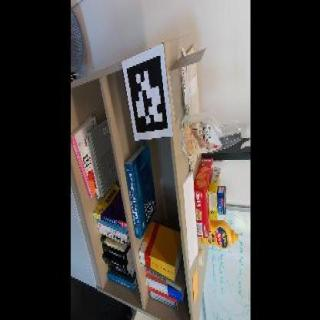book-spine: (69, 136, 92, 199), (133, 251, 179, 282), (123, 162, 141, 239), (138, 264, 183, 292), (85, 132, 103, 198), (142, 277, 186, 303), (83, 139, 98, 198), (103, 272, 136, 291), (91, 213, 129, 229), (96, 227, 129, 245), (95, 222, 128, 240), (146, 286, 177, 303), (146, 290, 176, 307), (99, 245, 129, 262), (95, 219, 128, 234), (100, 255, 129, 271), (147, 294, 177, 309), (105, 264, 133, 278), (144, 270, 169, 285), (103, 261, 129, 274), (99, 232, 123, 244), (98, 239, 122, 251), (100, 242, 124, 252)
